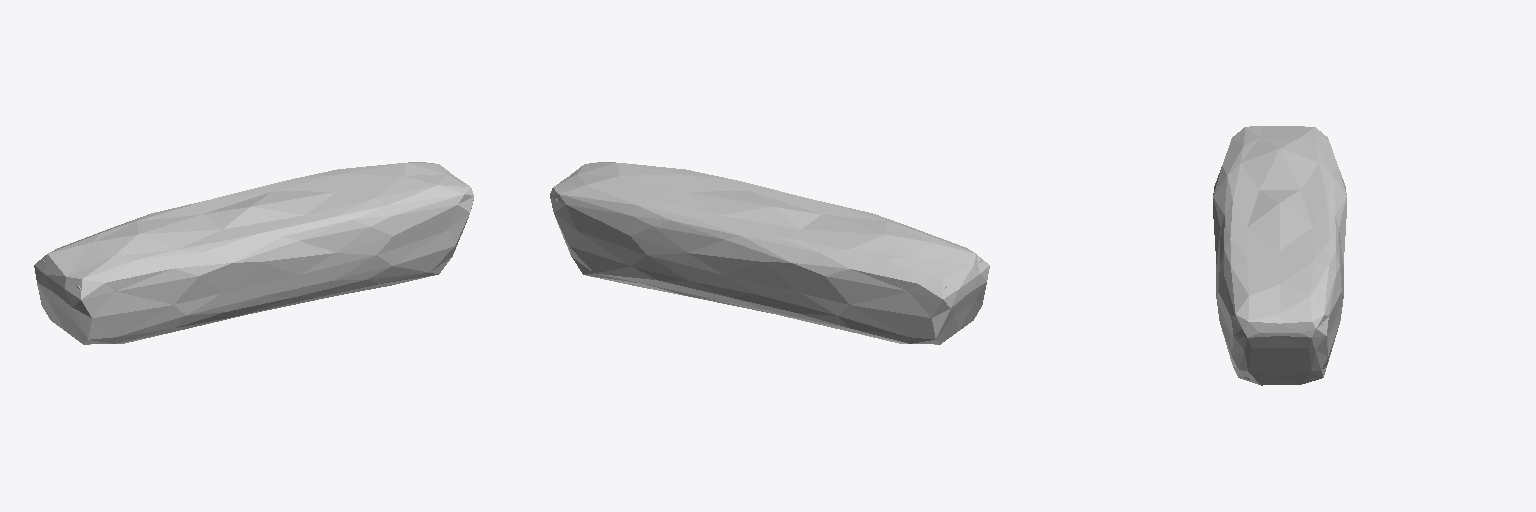
File: body_collision.obj
3 views of the same model, side by side, from view 1: azimuth 30°, elevation 25°; view 2: azimuth 150°, elevation 25°; view 3: azimuth 270°, elevation 25° (orthographic).
Visible parts, largest first — view 1: body_collision_body_collision.001; view 2: body_collision_body_collision.001; view 3: body_collision_body_collision.001.
Part boxes in pixels (left/top/right/bottom): body_collision_body_collision.001: left=34, top=162, right=473, bottom=344; body_collision_body_collision.001: left=550, top=162, right=989, bottom=344; body_collision_body_collision.001: left=1213, top=126, right=1346, bottom=385.
Bounding box in the file's own units: 0.8917 × 0.2138 × 0.2563.